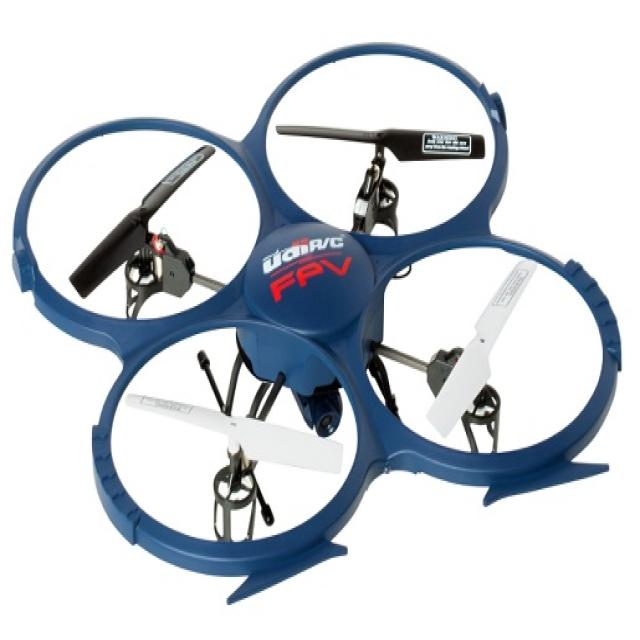drone: (2, 56, 624, 577)
